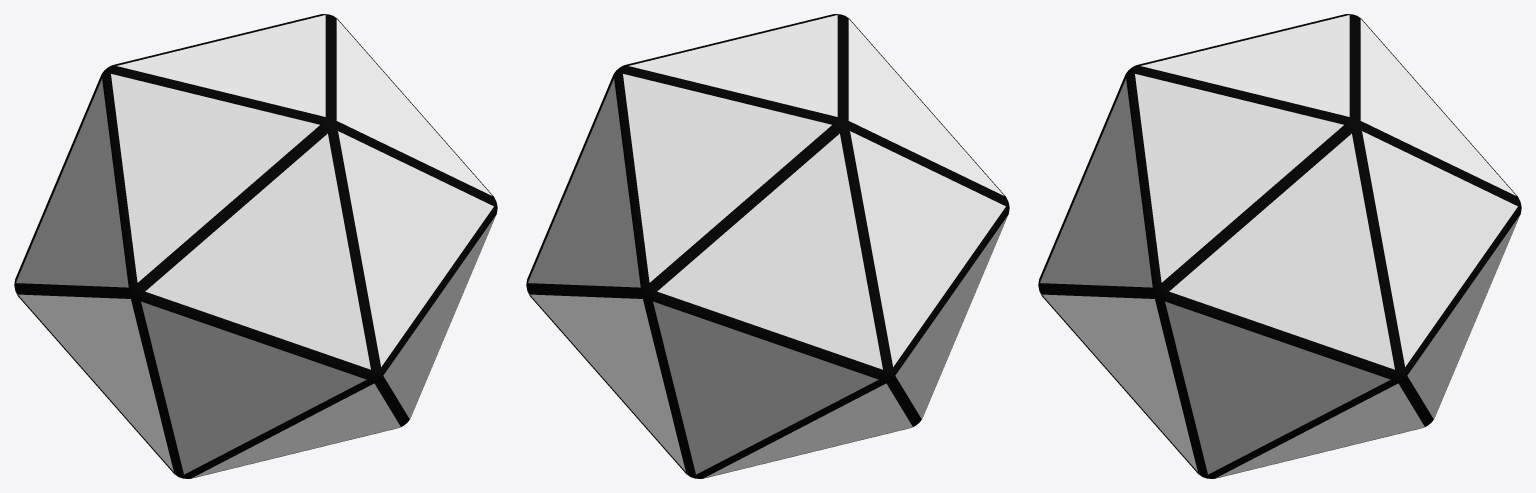
3 renders of one model, left to right at view 1: azimuth 30°, elevation 25°; view 2: azimuth 150°, elevation 25°; view 3: azimuth 270°, elevation 25°, orthographic.
Parts seen in each view (by area): view 1: 20D; view 2: 20D; view 3: 20D.
Boxes of the visible parts, box(x1,y1,x2,y2) form: 20D: box(14, 14, 497, 478); 20D: box(526, 14, 1009, 478); 20D: box(1038, 14, 1521, 478).
Bounding box in the file's own units: 0.8766 × 0.8245 × 1.
1 material, 1 textured.
